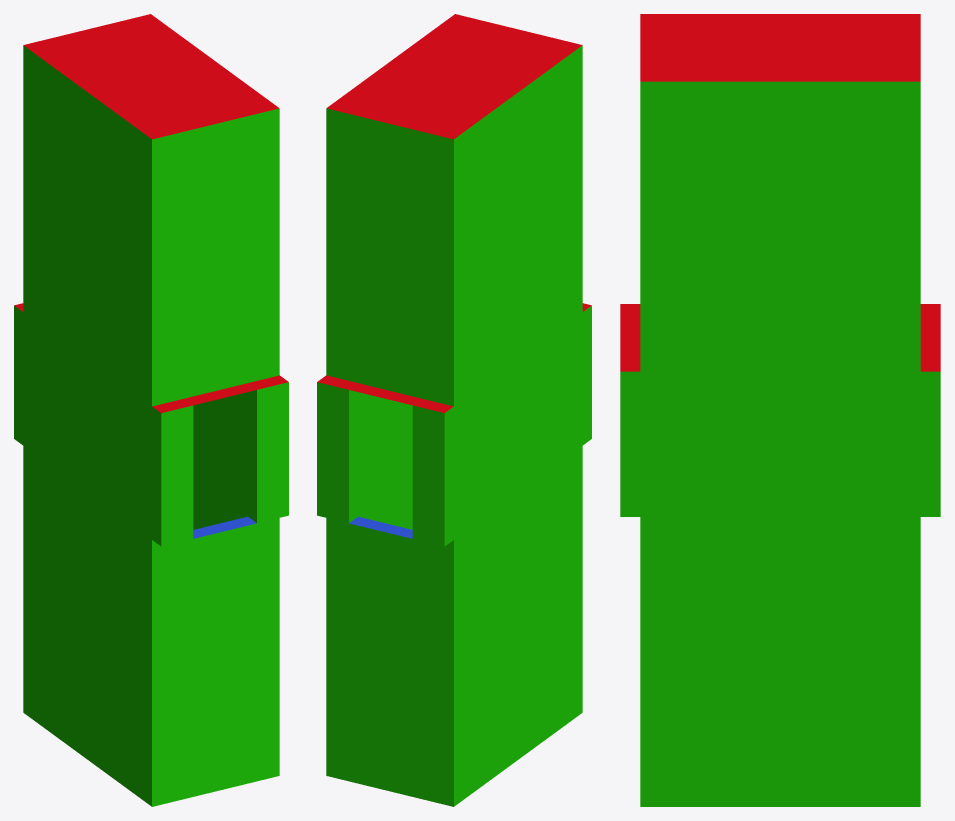
File: 1x2_Room__Deep_and_Tall.fbx
3 views of the same model, side by side, from view 1: azimuth 30°, elevation 25°; view 2: azimuth 150°, elevation 25°; view 3: azimuth 270°, elevation 25° (orthographic). The views are drawn at different scales.
Parts seen in each view (by area): view 1: 1x2 Room Deep and Tall; view 2: 1x2 Room Deep and Tall; view 3: 1x2 Room Deep and Tall.
Part boxes in pixels (x1,y1,x2,y2): 1x2 Room Deep and Tall: (14, 14, 288, 806); 1x2 Room Deep and Tall: (317, 14, 591, 806); 1x2 Room Deep and Tall: (620, 14, 940, 806).
Size of the model in its own units: 800 by 4000 by 1600.
